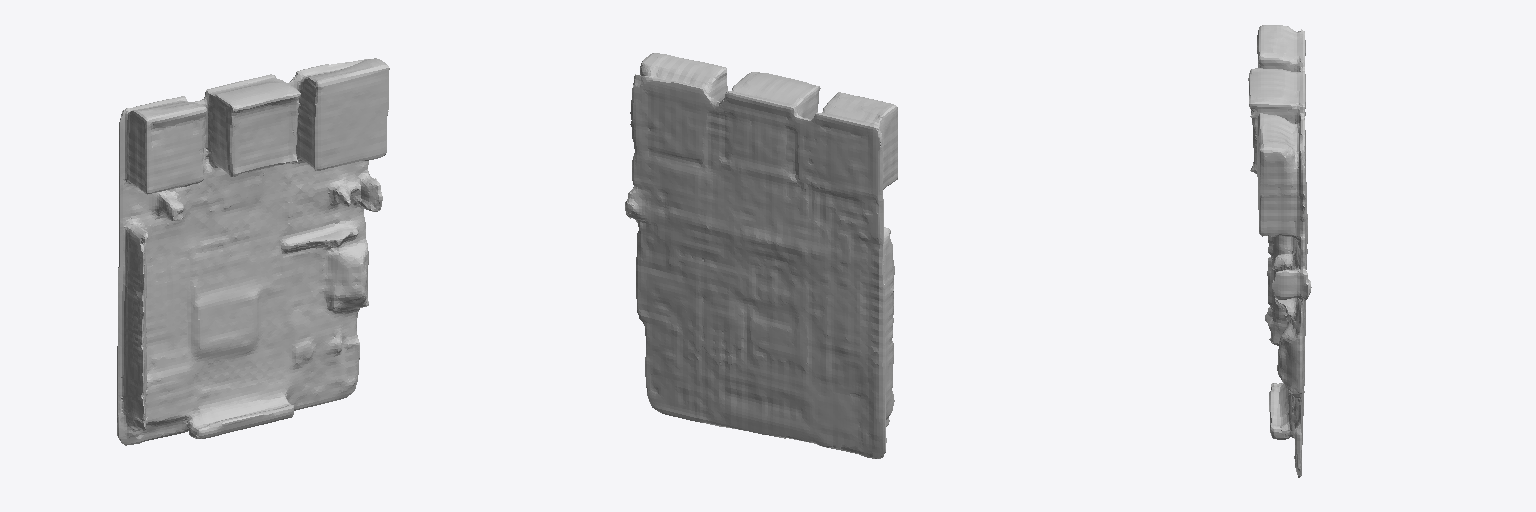
Rendered from replicate-prediction-q2r48z1texrgm0cf8ywv93yzkr-2.obj.
3 views of the same model, side by side, from view 1: azimuth 30°, elevation 25°; view 2: azimuth 150°, elevation 25°; view 3: azimuth 270°, elevation 25° (orthographic).
Bounding box in the file's own units: 1.5 × 1.94 × 0.3186.